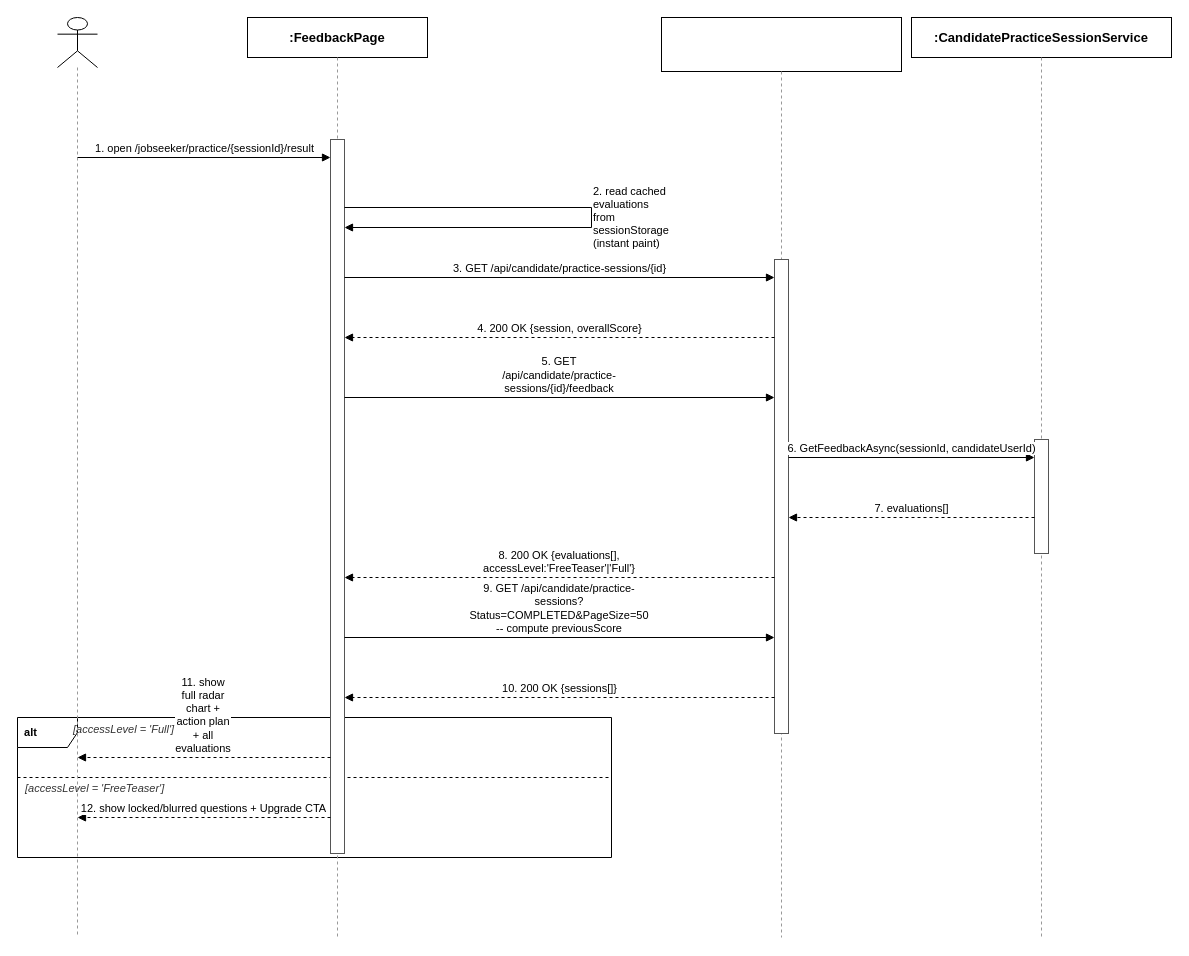
Image size: 1189x956. Some labels were removed from this diagram. Here are the shapes that lost their labels. From the top down, the centre of each, then its label:
point (77, 42): Candidate
point (781, 44): :CandidatePracticeSessionsController
